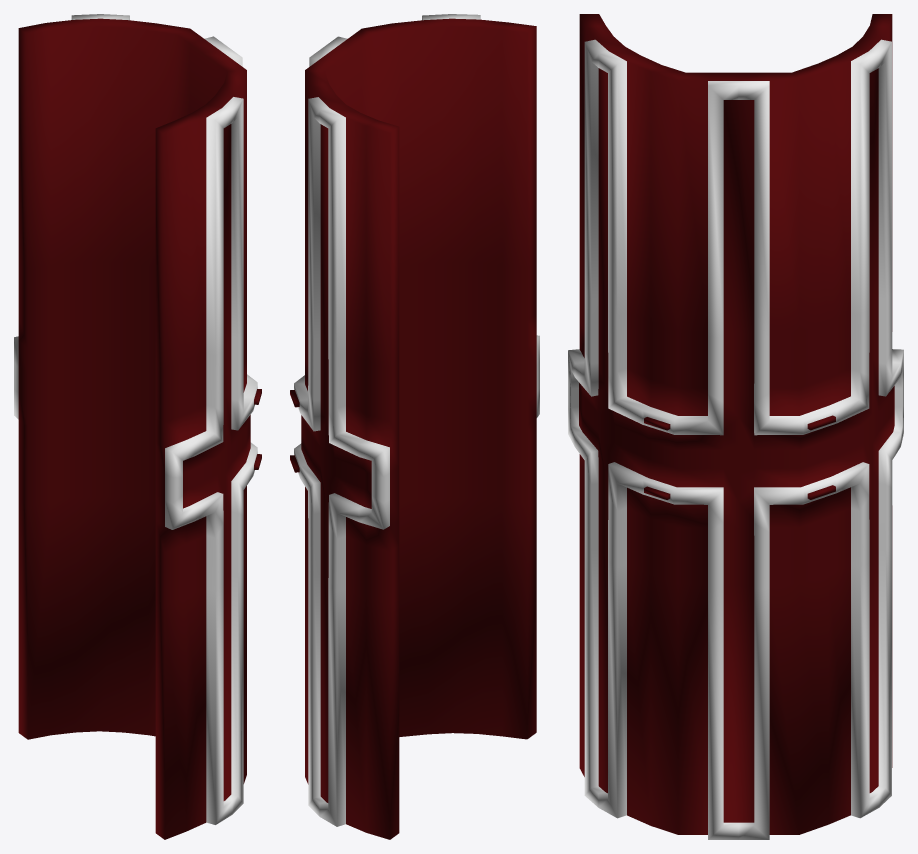
The model's file is grebas.fbx.
The picture shows the model from 3 angles, left to right: view 1: azimuth 30°, elevation 25°; view 2: azimuth 150°, elevation 25°; view 3: azimuth 270°, elevation 25°; orthographic projection. The views are drawn at different scales.
Parts seen in each view (by area): view 1: Cylinder; view 2: Cylinder; view 3: Cylinder.
Part boxes in pixels (x1,y1,x2,y2): Cylinder: (14, 14, 261, 839); Cylinder: (290, 14, 539, 839); Cylinder: (568, 14, 903, 839).
Bounding box in the file's own units: 6.15 × 30 × 12.12.
